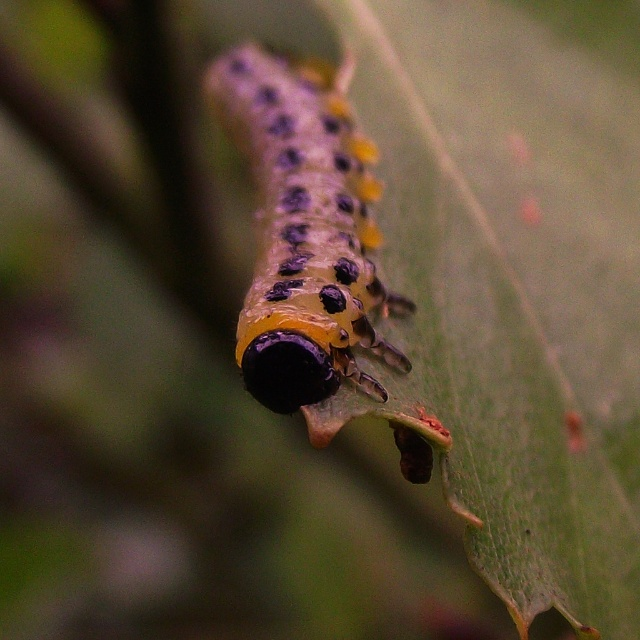Caterpillar: (195, 35, 419, 416)
